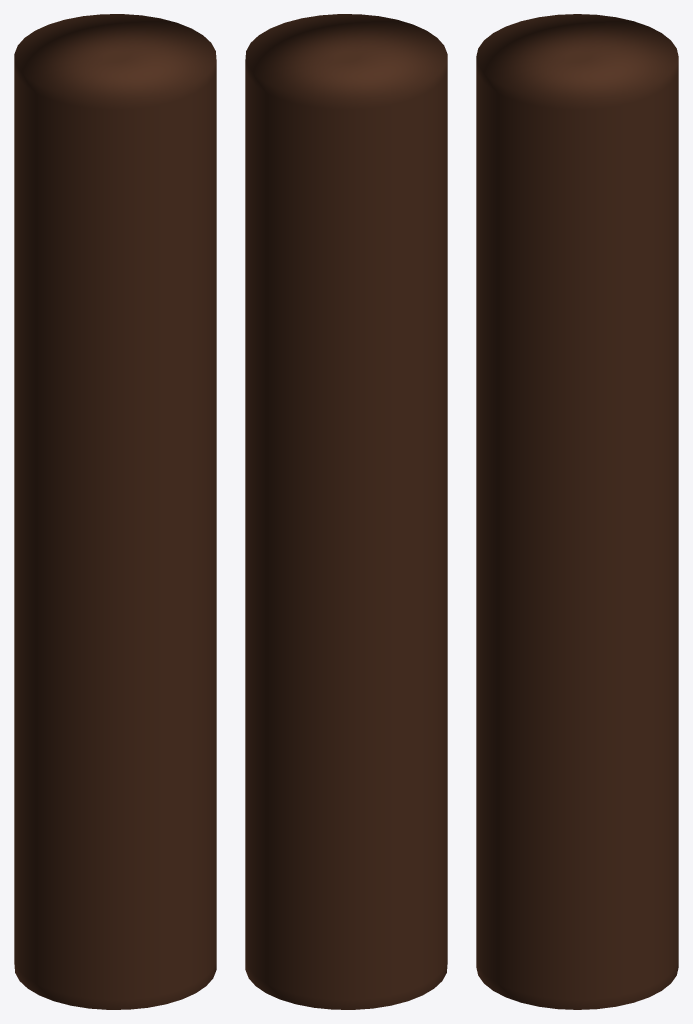
The model's file is Bridge Pieces fix.fbx.
3 renders of one model, left to right at view 1: azimuth 30°, elevation 25°; view 2: azimuth 150°, elevation 25°; view 3: azimuth 270°, elevation 25°, orthographic.
Visible parts, largest first — view 1: Cylinder; view 2: Cylinder; view 3: Cylinder.
Boxes of the visible parts, x1,y1,x2,y2 form: Cylinder: [14, 14, 216, 1009]; Cylinder: [245, 14, 447, 1009]; Cylinder: [476, 14, 678, 1009].
Size of the model in its own units: 40.3 by 200 by 40.3.
